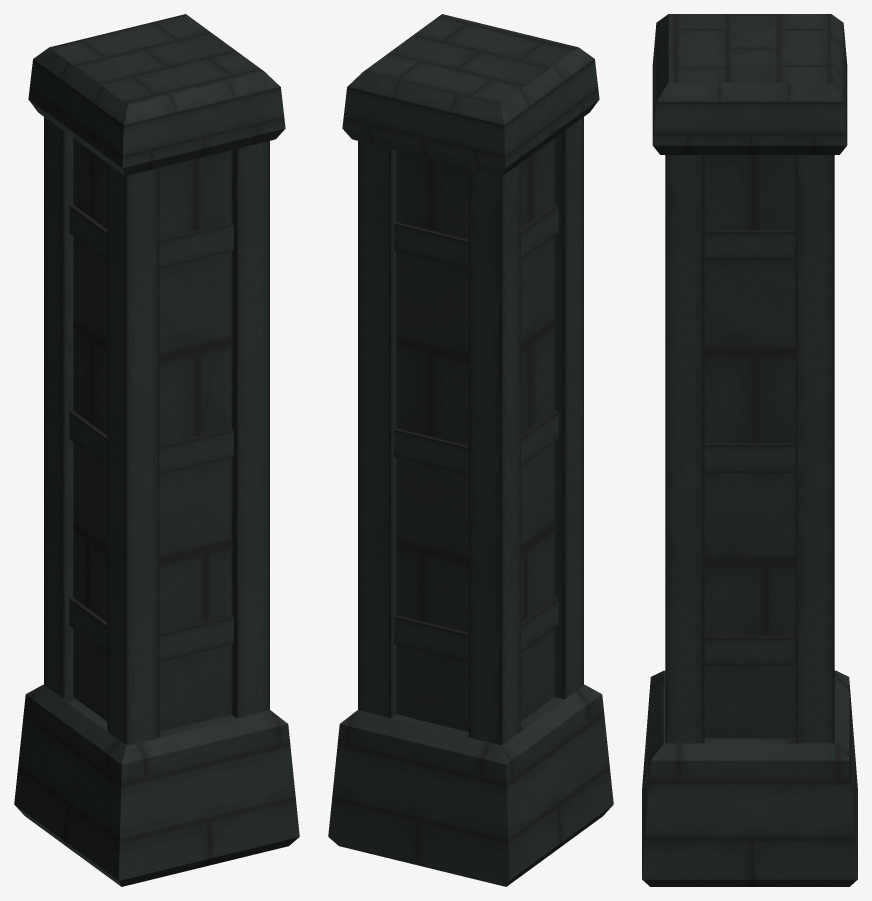
Rendered from Coast Pillar.fbx.
3 views of the same model, side by side, from view 1: azimuth 30°, elevation 25°; view 2: azimuth 150°, elevation 25°; view 3: azimuth 270°, elevation 25° (orthographic). The views are drawn at different scales.
Visible parts, largest first — view 1: Pillar; view 2: Pillar; view 3: Pillar.
Part boxes in pixels (box(x1,y1,x2,y2)): Pillar: box(14, 14, 299, 886); Pillar: box(328, 14, 613, 886); Pillar: box(642, 14, 857, 886).
Size of the model in its own units: 621 by 2530 by 621.
